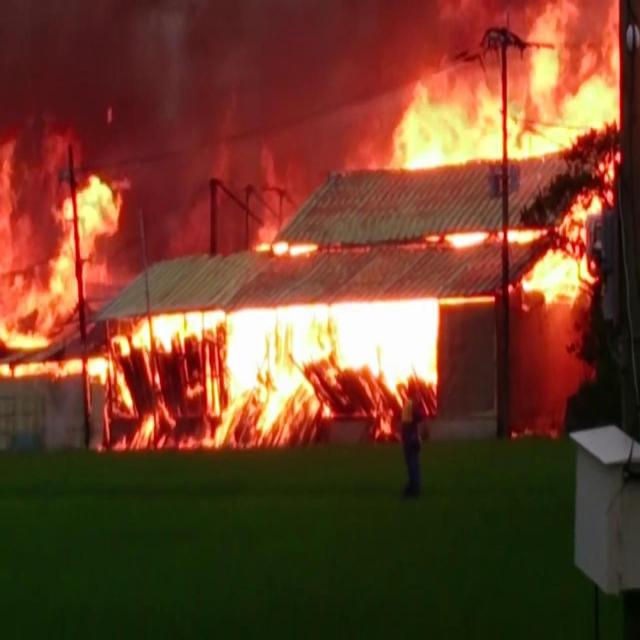Fire: (388, 4, 618, 170), (226, 295, 442, 429), (2, 181, 126, 355), (507, 201, 603, 304), (1, 362, 135, 412), (110, 308, 222, 358), (256, 238, 317, 262), (425, 226, 487, 248), (140, 413, 156, 438)
